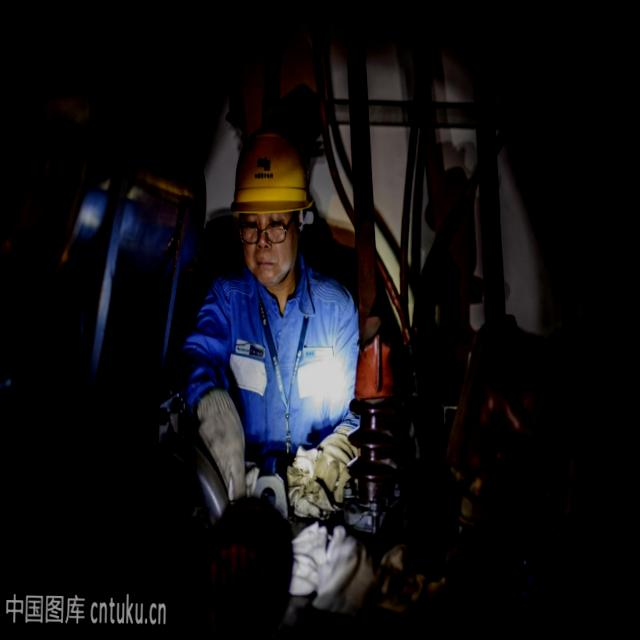goggles: (226, 207, 304, 254)
helmet: (226, 124, 308, 218)
no-vest: (208, 266, 348, 463)
